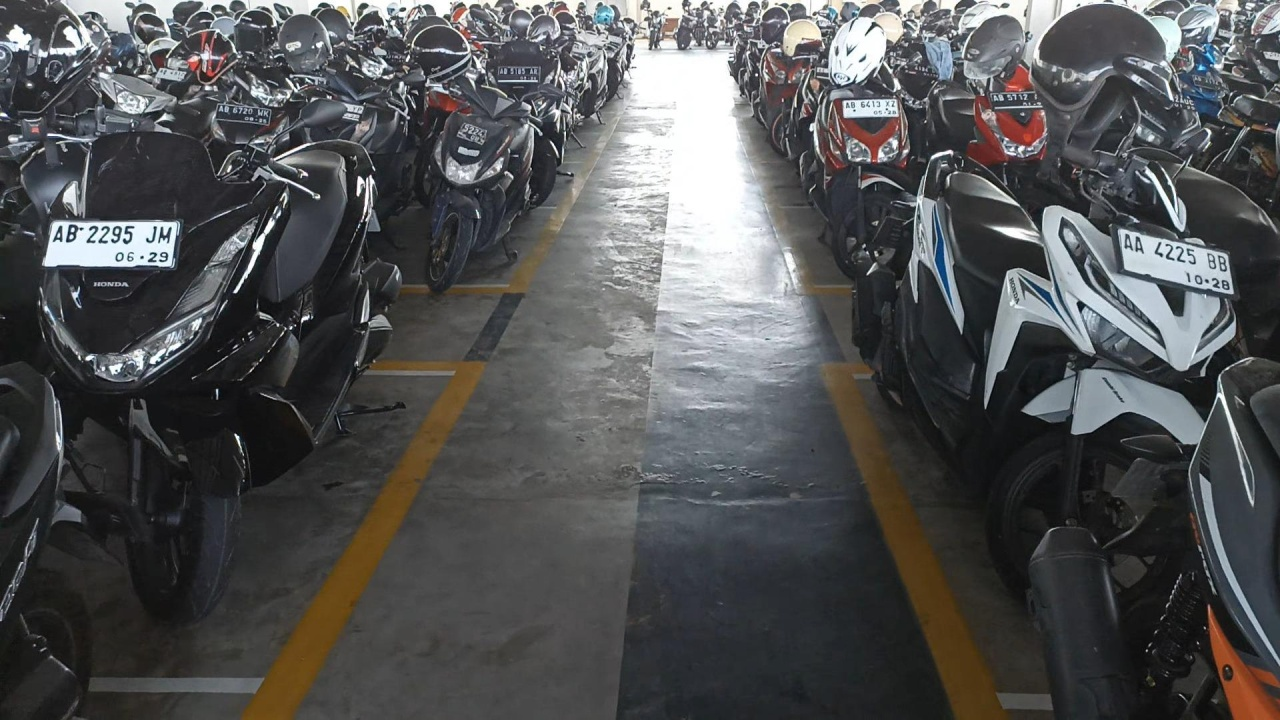plate: (1115, 227, 1237, 296), (42, 219, 180, 269), (215, 104, 271, 126), (842, 99, 900, 120), (988, 91, 1044, 110), (498, 65, 541, 83)
